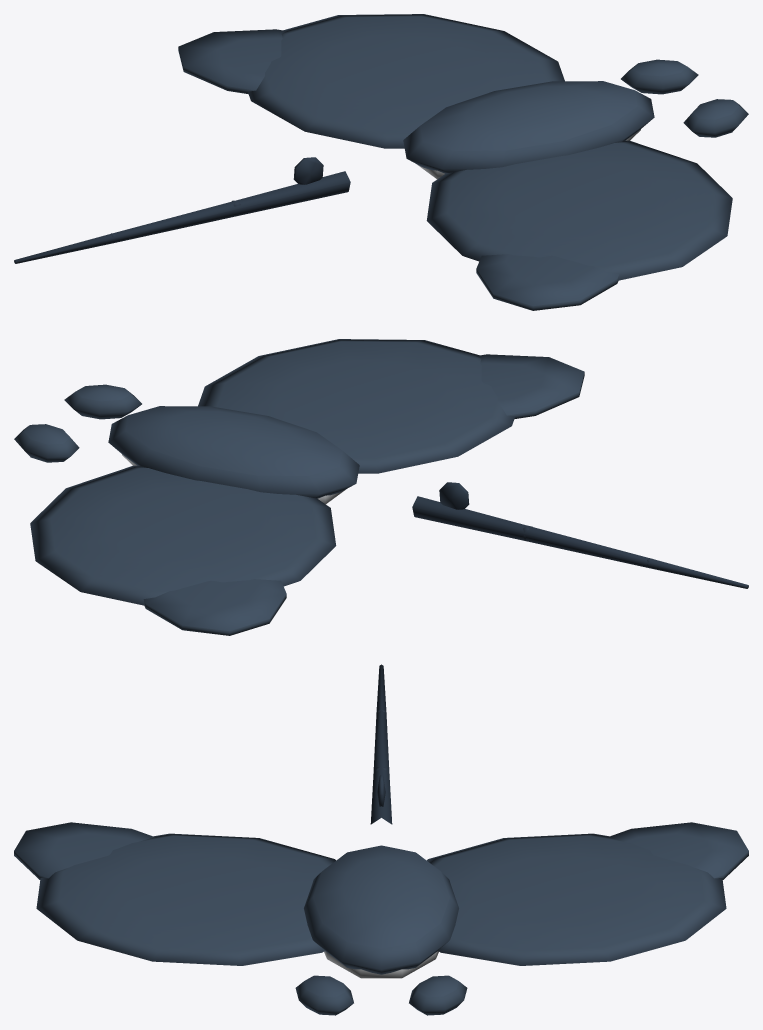
Rendered from manta_ray.glb.
3 renders of one model, top to bottom at view 1: azimuth 30°, elevation 25°; view 2: azimuth 150°, elevation 25°; view 3: azimuth 270°, elevation 25°, orthographic.
Parts seen in each view (by area): view 1: manta_ray; view 2: manta_ray; view 3: manta_ray.
Part boxes in pixels (box(x1,y1,x2,y2)): manta_ray: box(14, 14, 748, 310); manta_ray: box(14, 339, 748, 635); manta_ray: box(14, 664, 748, 1015).
Bounding box in the file's own units: 2.88 × 0.22 × 2.6.
